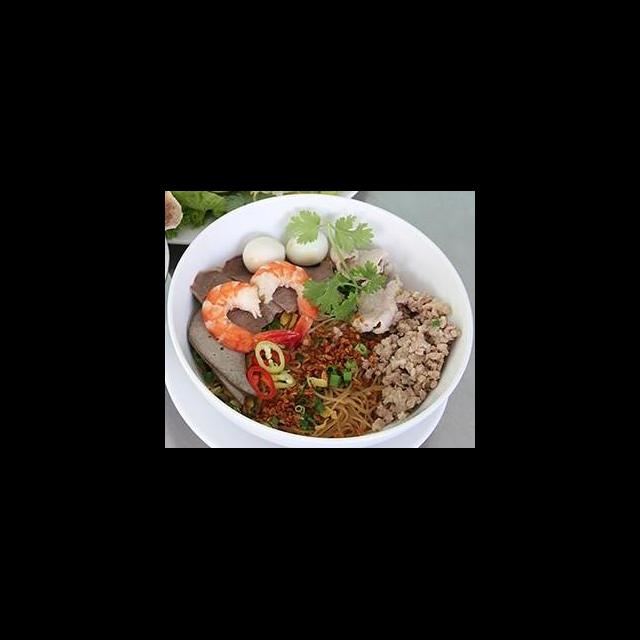gan: (184, 302, 263, 400)
mi: (283, 362, 384, 443)
mi tron: (172, 213, 474, 447)
thit bam: (356, 288, 463, 434)
thit heo: (343, 270, 410, 338), (329, 242, 394, 286)
tom: (199, 280, 303, 356), (245, 258, 323, 356)
trung: (283, 228, 331, 270), (241, 236, 288, 276)
